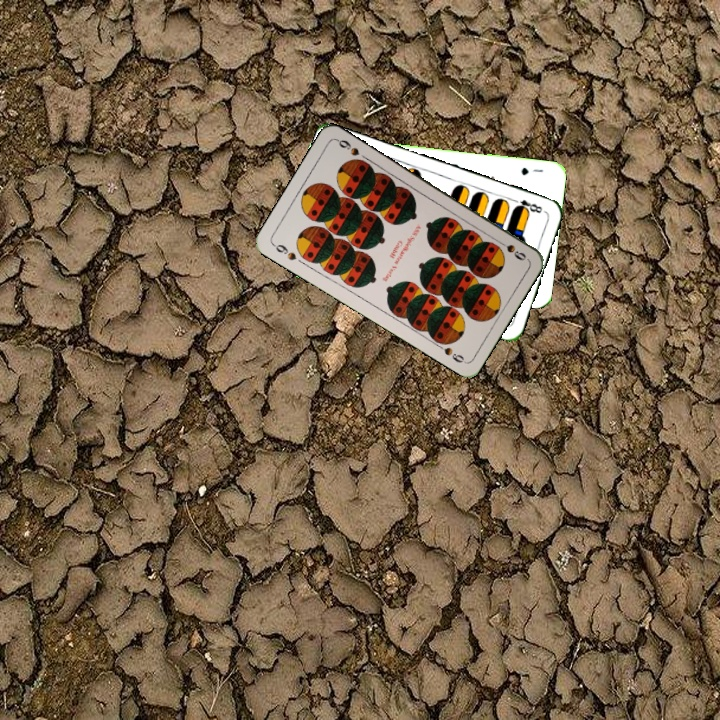E8: (508, 195, 545, 216)
GU: (517, 163, 546, 178)
S9: (492, 236, 529, 263), (269, 240, 299, 263)
